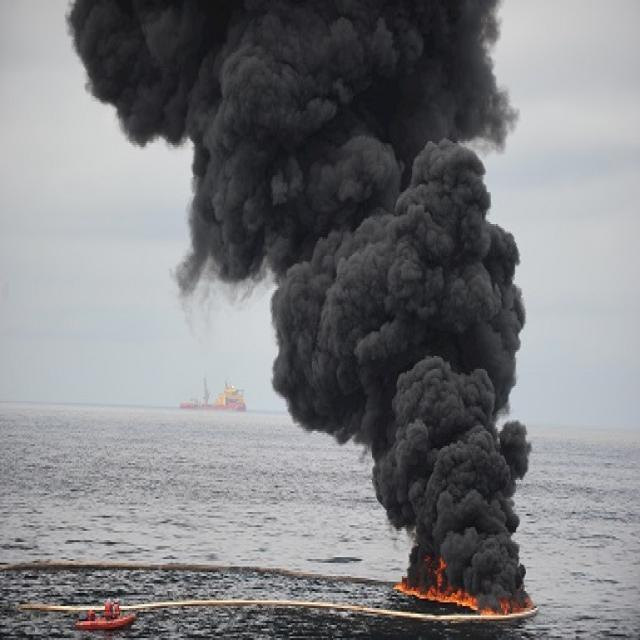Fire: (382, 550, 540, 626)
Smoke: (58, 10, 566, 632)
